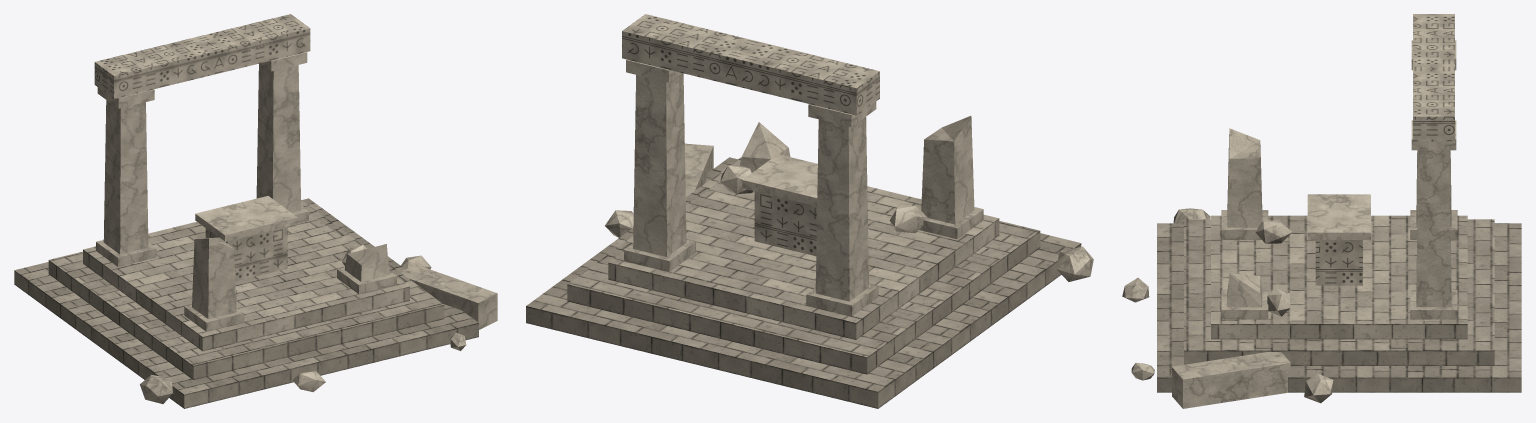
File: ruin-shrine.glb
3 views of the same model, side by side, from view 1: azimuth 30°, elevation 25°; view 2: azimuth 150°, elevation 25°; view 3: azimuth 270°, elevation 25° (orthographic). The views are drawn at different scales.
Parts seen in each view (by area): view 1: ruin-shrine; view 2: ruin-shrine; view 3: ruin-shrine.
Boxes of the visible parts, x1,y1,x2,y2 form: ruin-shrine: [14, 14, 497, 408]; ruin-shrine: [526, 14, 1093, 408]; ruin-shrine: [1122, 14, 1521, 408].
Bounding box in the file's own units: 6.4 × 4.09 × 5.92.
3 materials, 3 textured.
